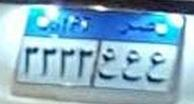3: (40, 47, 58, 76), (76, 49, 93, 77), (58, 47, 74, 76), (23, 46, 39, 72)
ain: (146, 50, 168, 83), (98, 47, 117, 80), (123, 49, 141, 81)
